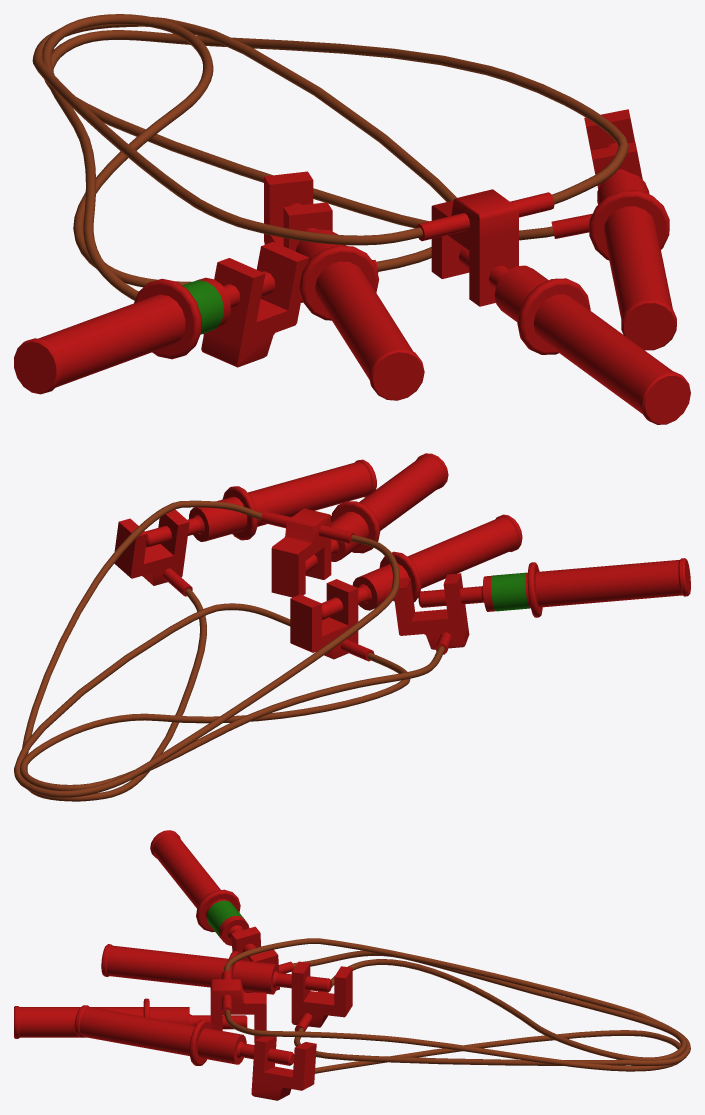
The model's file is SIZ_PZRU-1N.fbx.
The picture shows the model from 3 angles, top to bottom: view 1: azimuth 30°, elevation 25°; view 2: azimuth 150°, elevation 25°; view 3: azimuth 270°, elevation 25°; orthographic projection. The views are drawn at different scales.
Visible parts, largest first — view 1: Провод, Рукоять_003, Рукоять_001, Рукоять_002, Рукоять_004, Зажим_003, Зажим_001, Зажим_002, Зажим_004, Наклейка; view 2: Провод, Рукоять_001, Рукоять_004, Рукоять_002, Рукоять_003, Зажим_003, Зажим_002, Зажим_004, Зажим_001, Наклейка; view 3: Провод, Рукоять_004, Рукоять_002, Рукоять_001, Рукоять_003, Зажим_004, Зажим_002, Зажим_003, Зажим_001, Наклейка.
Part boxes in pixels (x1,y1,x2,y2): Провод: [32, 14, 628, 300]; Рукоять_003: [458, 247, 690, 424]; Рукоять_001: [14, 271, 275, 394]; Рукоять_002: [289, 203, 424, 400]; Рукоять_004: [589, 143, 676, 350]; Зажим_003: [416, 189, 554, 306]; Зажим_001: [201, 242, 308, 367]; Зажим_002: [264, 171, 378, 302]; Зажим_004: [551, 109, 642, 238]; Наклейка: [182, 280, 223, 334]; Провод: [14, 500, 444, 801]; Рукоять_001: [418, 558, 690, 617]; Рукоять_004: [145, 459, 376, 547]; Рукоять_002: [322, 514, 522, 619]; Рукоять_003: [305, 453, 448, 572]; Зажим_003: [261, 508, 355, 597]; Зажим_002: [290, 579, 374, 661]; Зажим_004: [114, 509, 192, 596]; Зажим_001: [394, 573, 469, 654]; Наклейка: [491, 572, 529, 611]; Провод: [224, 938, 690, 1073]; Рукоять_004: [74, 1005, 294, 1065]; Рукоять_002: [101, 944, 331, 994]; Рукоять_001: [150, 830, 256, 960]; Рукоять_003: [14, 998, 247, 1038]; Зажим_004: [251, 1036, 316, 1100]; Зажим_002: [291, 961, 352, 1031]; Зажим_003: [210, 970, 266, 1042]; Зажим_001: [231, 926, 293, 992]; Наклейка: [206, 900, 244, 937].
Bounding box in the file's own units: 48.64 × 9.38 × 66.56.
